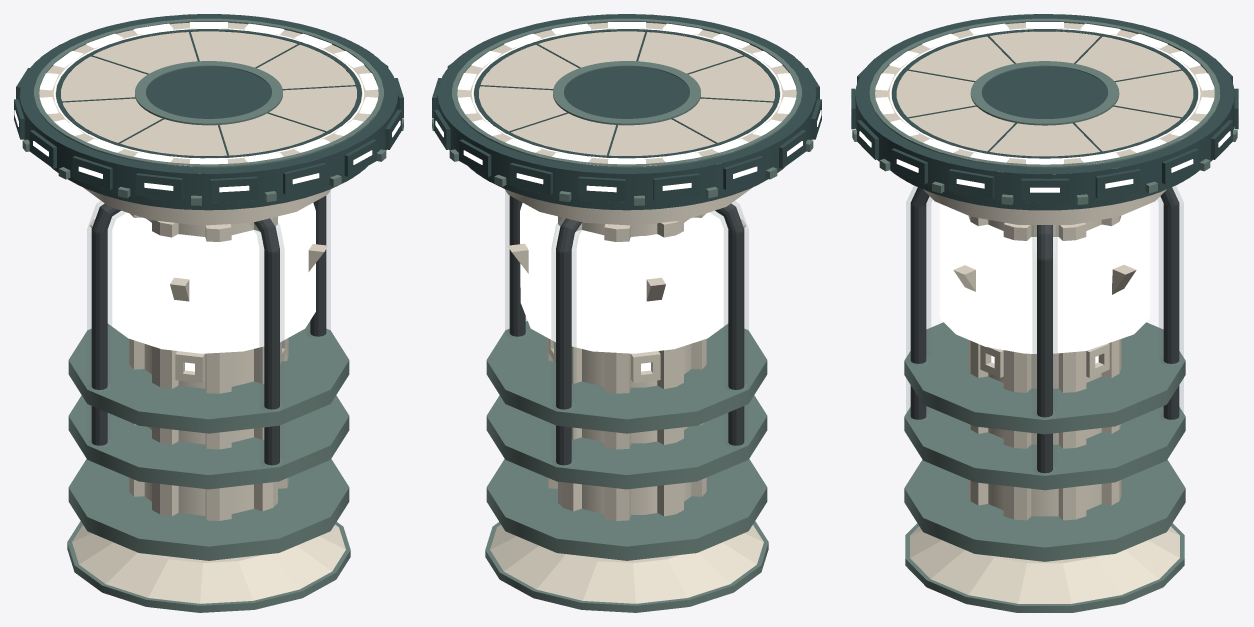
The model's file is Platform_Relay_v3_lab.glb.
3 renders of one model, left to right at view 1: azimuth 30°, elevation 25°; view 2: azimuth 150°, elevation 25°; view 3: azimuth 270°, elevation 25°, orthographic.
Parts seen in each view (by area): view 1: Platform_Relay_v3; view 2: Platform_Relay_v3; view 3: Platform_Relay_v3.
Part boxes in pixels (x1=…): Platform_Relay_v3: x1=14, y1=14, x2=403, y2=612; Platform_Relay_v3: x1=432, y1=14, x2=821, y2=612; Platform_Relay_v3: x1=850, y1=14, x2=1239, y2=612.
Bounding box in the file's own units: 12.32 × 16.11 × 12.32.
